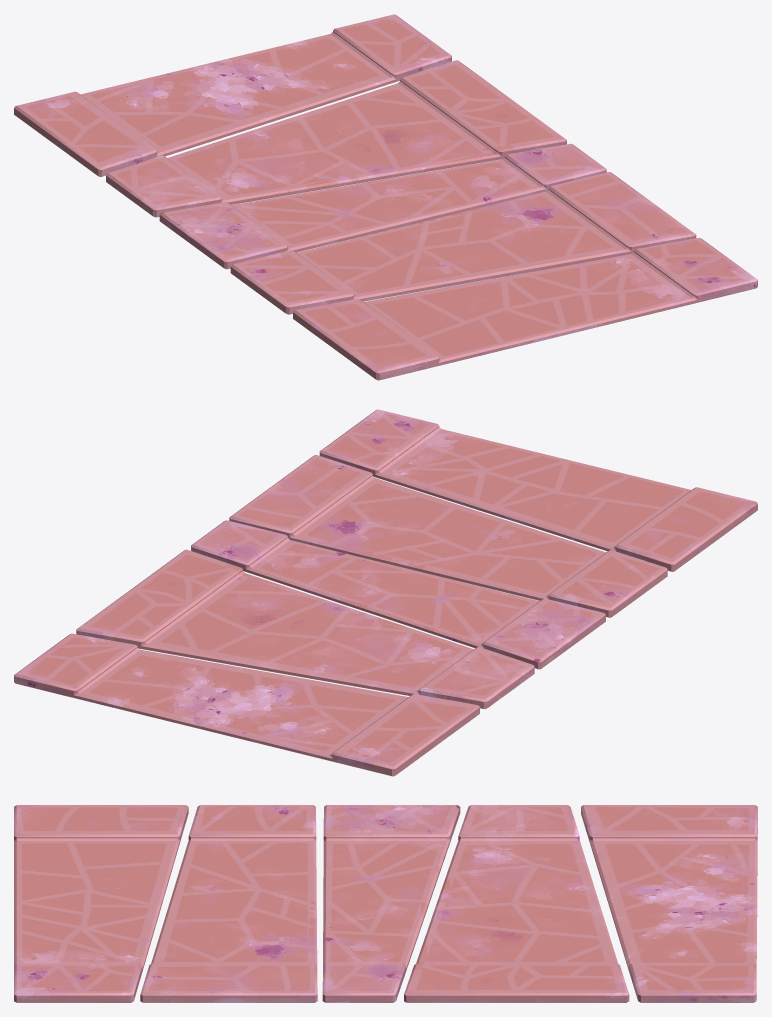
File: baldosas.fbx
3 views of the same model, one above another, from view 1: azimuth 30°, elevation 25°; view 2: azimuth 150°, elevation 25°; view 3: azimuth 270°, elevation 25° (orthographic). The views are drawn at different scales.
Parts seen in each view (by area): view 1: Cube.102; view 2: Cube.102; view 3: Cube.102.
Boxes of the visible parts, x1,y1,x2,y2 form: Cube.102: [14, 14, 757, 380]; Cube.102: [14, 409, 757, 776]; Cube.102: [14, 805, 757, 1002].
Bounding box in the file's own units: 236 × 5.79 × 391.
